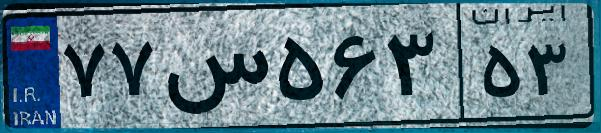3: (385, 28, 445, 110), (525, 38, 570, 115)
5: (270, 28, 330, 110), (475, 38, 525, 113)
6: (330, 28, 385, 110)
7: (57, 26, 110, 100), (110, 28, 158, 98)
س: (158, 20, 270, 120)
